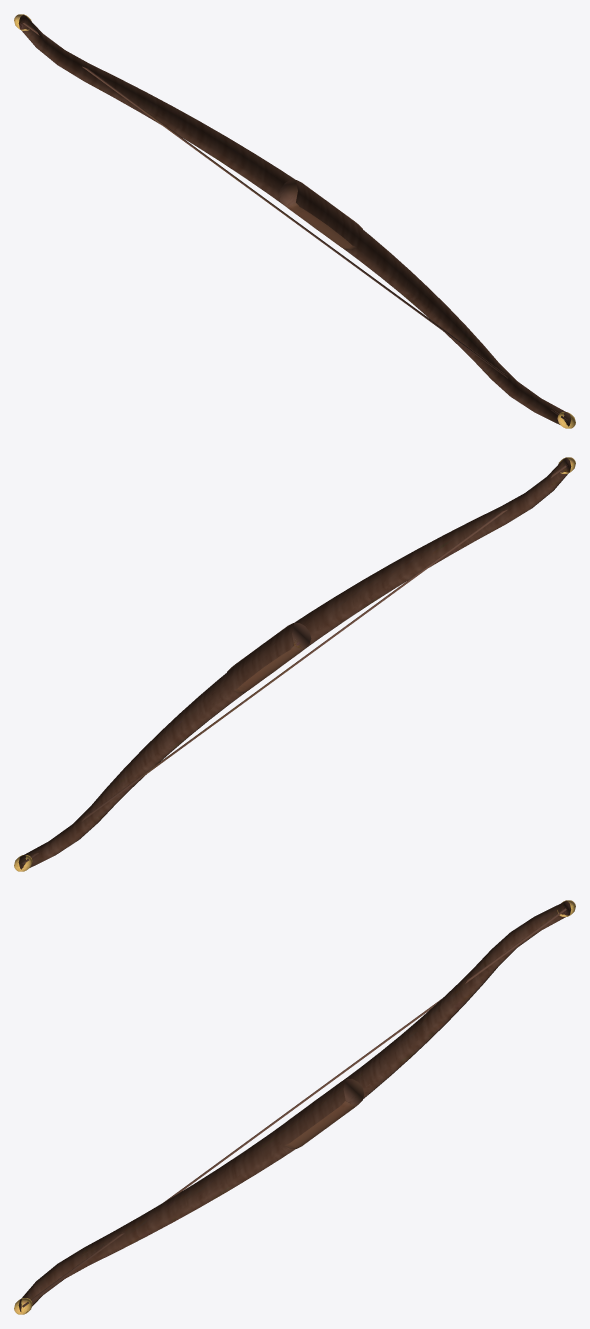
Rendered from bogen.glb.
3 renders of one model, top to bottom at view 1: azimuth 30°, elevation 25°; view 2: azimuth 150°, elevation 25°; view 3: azimuth 330°, elevation 25°, orthographic.
Visible parts, largest first — view 1: bogen; view 2: bogen; view 3: bogen.
Boxes of the visible parts, box(x1,y1,x2,y2) form: bogen: box(14, 14, 575, 428); bogen: box(14, 457, 575, 871); bogen: box(14, 900, 575, 1314).
Size of the model in its own units: 0.0686 by 0.044 by 1.27.
Materials: 3 (3 with a texture image).
